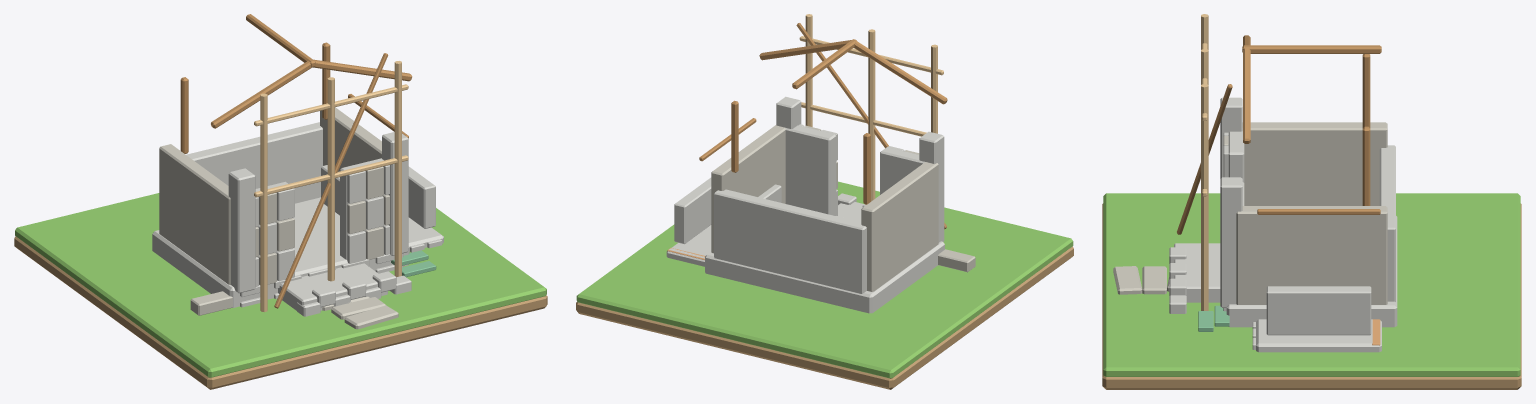
Rendered from stone_house_l04_construction.glb.
3 views of the same model, side by side, from view 1: azimuth 30°, elevation 25°; view 2: azimuth 150°, elevation 25°; view 3: azimuth 270°, elevation 25° (orthographic). The views are drawn at different scales.
Visible parts, largest first — view 1: stone_house_component_pilot_grass_tile.005, pilot_stone_house_l04_side_wall_-1, stone_house_component_pilot_earth_tile.005, pilot_stone_house_l04_rear_wall, pilot_stone_house_l04_foundation_stone_block_medium_medium_f, pilot_stone_house_l04_partial_corner_pier_-1, pilot_stone_house_l04_porch_footing, pilot_stone_house_l04_side_wall_1, pilot_stone_house_l04_scaffold_scaffold_post_-0.7, pilot_stone_house_l04_scaffold_scaffold_post_0.7, pilot_stone_house_l04_partial_corner_pier_1, pilot_stone_house_l04_scaffold_scaffold_post_0.0 (+23 smaller); view 2: stone_house_component_pilot_grass_tile.005, pilot_stone_house_l04_rear_wall, pilot_stone_house_l04_side_wall_-1, stone_house_component_pilot_earth_tile.005, pilot_stone_house_l04_foundation_stone_block_medium_medium_f, pilot_stone_house_l04_front_wall_1, pilot_stone_house_l04_side_wall_1, pilot_stone_house_l04_annex_partial_side_1, pilot_stone_house_l04_partial_corner_pier_-1, pilot_stone_house_l04_front_wall_-1, pilot_stone_house_l04_scaffold_scaffold_post_0.0, pilot_stone_house_l04_annex_foundation_stone_block_low_thin_ (+12 smaller); view 3: stone_house_component_pilot_grass_tile.005, pilot_stone_house_l04_side_wall_1, pilot_stone_house_l04_side_wall_-1, stone_house_component_pilot_earth_tile.005, pilot_stone_house_l04_annex_partial_side_1, pilot_stone_house_l04_annex_foundation_stone_block_low_thin_, pilot_stone_house_l04_partial_corner_pier_1, pilot_stone_house_l04_rear_wall, pilot_stone_house_l04_porch_footing, pilot_stone_house_l04_scaffold_scaffold_post_0.7, pilot_stone_house_l04_foundation_stone_block_medium_medium_f, pilot_stone_house_l04_ridge_beam (+9 smaller).
Boxes of the visible parts, left/top/right/bottom form: stone_house_component_pilot_grass_tile.005: left=15, top=193, right=546, bottom=377; pilot_stone_house_l04_side_wall_-1: left=159, top=144, right=230, bottom=284; stone_house_component_pilot_earth_tile.005: left=14, top=236, right=547, bottom=389; pilot_stone_house_l04_rear_wall: left=186, top=122, right=322, bottom=203; pilot_stone_house_l04_foundation_stone_block_medium_medium_f: left=152, top=197, right=409, bottom=307; pilot_stone_house_l04_partial_corner_pier_-1: left=228, top=168, right=255, bottom=293; pilot_stone_house_l04_porch_footing: left=278, top=263, right=387, bottom=310; pilot_stone_house_l04_side_wall_1: left=320, top=107, right=381, bottom=171; pilot_stone_house_l04_scaffold_scaffold_post_-0.7: left=260, top=93, right=267, bottom=312; pilot_stone_house_l04_scaffold_scaffold_post_0.7: left=394, top=61, right=401, bottom=277; pilot_stone_house_l04_partial_corner_pier_1: left=382, top=132, right=408, bottom=255; pilot_stone_house_l04_scaffold_scaffold_post_0.0: left=327, top=77, right=334, bottom=281; stone_house_component_pilot_grass_tile.005: left=576, top=181, right=1073, bottom=378; pilot_stone_house_l04_rear_wall: left=714, top=189, right=866, bottom=293; pilot_stone_house_l04_side_wall_-1: left=861, top=162, right=938, bottom=291; stone_house_component_pilot_earth_tile.005: left=576, top=246, right=1073, bottom=389; pilot_stone_house_l04_foundation_stone_block_medium_medium_f: left=705, top=216, right=944, bottom=313; pilot_stone_house_l04_front_wall_1: left=785, top=125, right=836, bottom=215; pilot_stone_house_l04_side_wall_1: left=711, top=125, right=785, bottom=253; pilot_stone_house_l04_annex_partial_side_1: left=674, top=177, right=711, bottom=244; pilot_stone_house_l04_partial_corner_pier_-1: left=919, top=131, right=944, bottom=242; pilot_stone_house_l04_front_wall_-1: left=880, top=147, right=924, bottom=194; pilot_stone_house_l04_scaffold_scaffold_post_0.0: left=868, top=29, right=875, bottom=201; pilot_stone_house_l04_annex_foundation_stone_block_low_thin_: left=666, top=225, right=711, bottom=266; stone_house_component_pilot_grass_tile.005: left=1103, top=193, right=1520, bottom=376; pilot_stone_house_l04_side_wall_1: left=1236, top=206, right=1387, bottom=304; pilot_stone_house_l04_side_wall_-1: left=1242, top=122, right=1387, bottom=205; stone_house_component_pilot_earth_tile.005: left=1102, top=203, right=1521, bottom=389; pilot_stone_house_l04_annex_partial_side_1: left=1266, top=286, right=1371, bottom=335; pilot_stone_house_l04_annex_foundation_stone_block_low_thin_: left=1256, top=319, right=1381, bottom=352; pilot_stone_house_l04_partial_corner_pier_1: left=1220, top=177, right=1242, bottom=307; pilot_stone_house_l04_rear_wall: left=1379, top=145, right=1395, bottom=301; pilot_stone_house_l04_porch_footing: left=1174, top=243, right=1220, bottom=302; pilot_stone_house_l04_scaffold_scaffold_post_0.7: left=1201, top=84, right=1208, bottom=310; pilot_stone_house_l04_foundation_stone_block_medium_medium_f: left=1226, top=216, right=1397, bottom=327; pilot_stone_house_l04_ridge_beam: left=1242, top=45, right=1381, bottom=53.
Size of the model in its own units: 3.6 by 2.43 by 3.6.
